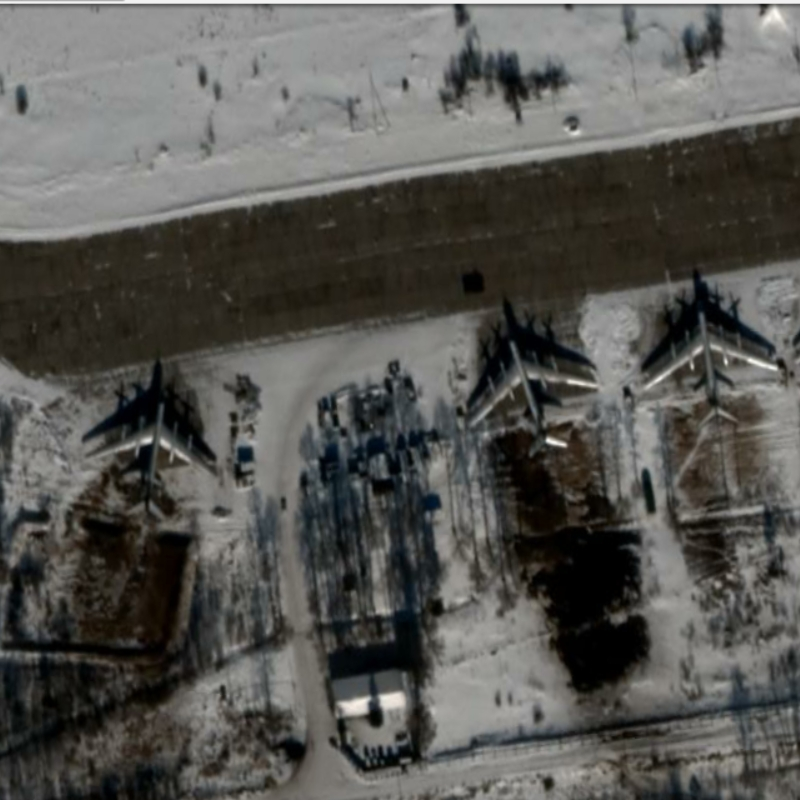A17: (639, 309, 783, 429), (464, 337, 602, 460), (83, 400, 218, 523)
